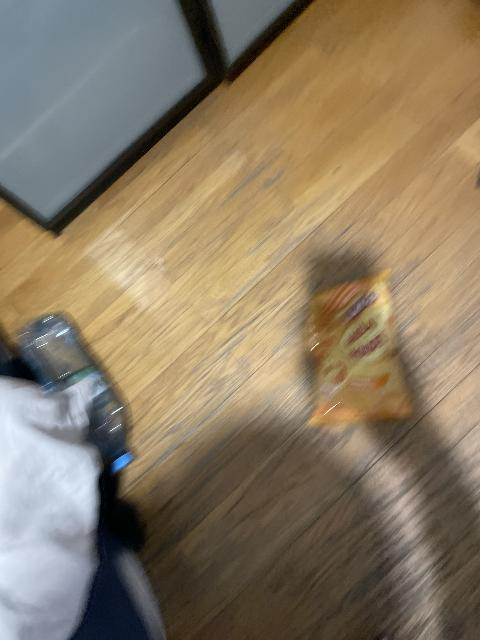Chio Hula Hoops Cheese 70g: (305, 272, 414, 425)
